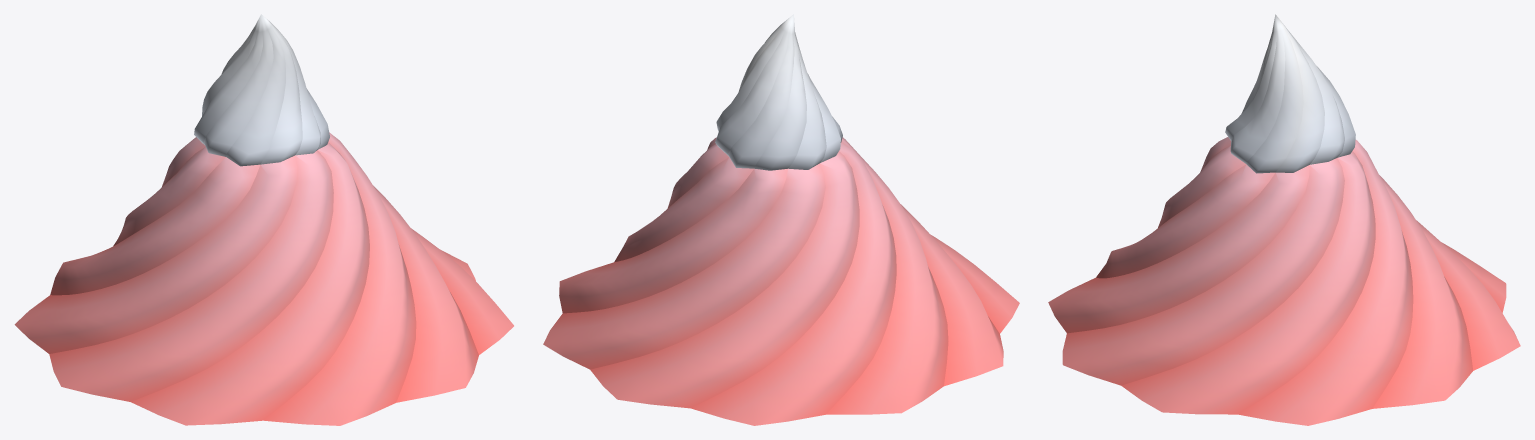
Rendered from Mountain_03.glb.
The picture shows the model from 3 angles, left to right: view 1: azimuth 30°, elevation 25°; view 2: azimuth 150°, elevation 25°; view 3: azimuth 270°, elevation 25°; orthographic projection. The views are drawn at different scales.
Parts seen in each view (by area): view 1: Mountain_03; view 2: Mountain_03; view 3: Mountain_03.
Boxes of the visible parts, bbox=[...] form: Mountain_03: bbox=[14, 14, 513, 425]; Mountain_03: bbox=[543, 14, 1019, 425]; Mountain_03: bbox=[1048, 14, 1520, 425].
Bounding box in the file's own units: 35.49 × 24.92 × 34.84.
1 material, 1 textured.
